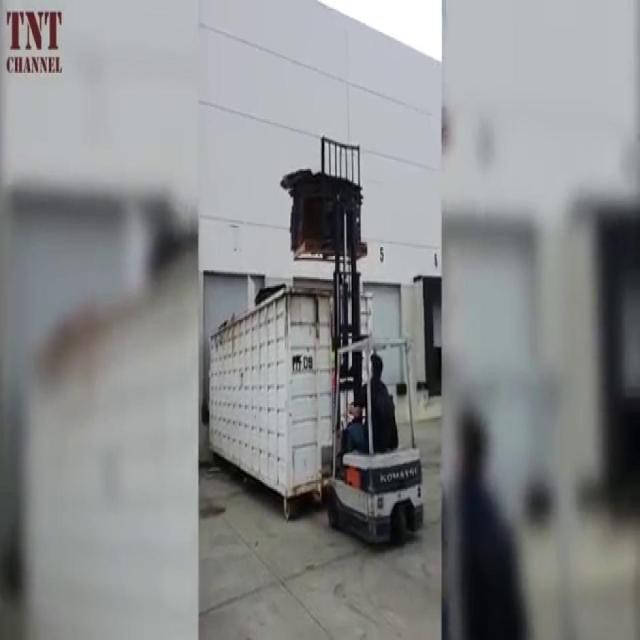forklift: (320, 316, 431, 555)
person: (340, 338, 407, 487)
